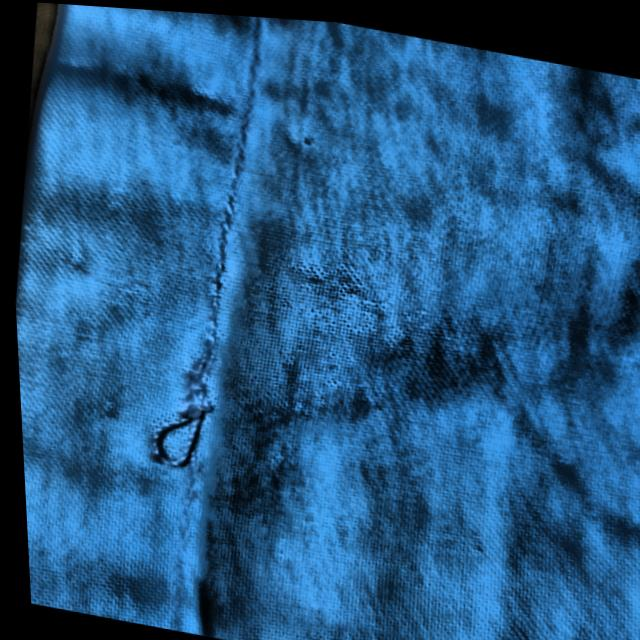Stitch: (75, 319, 279, 499)
